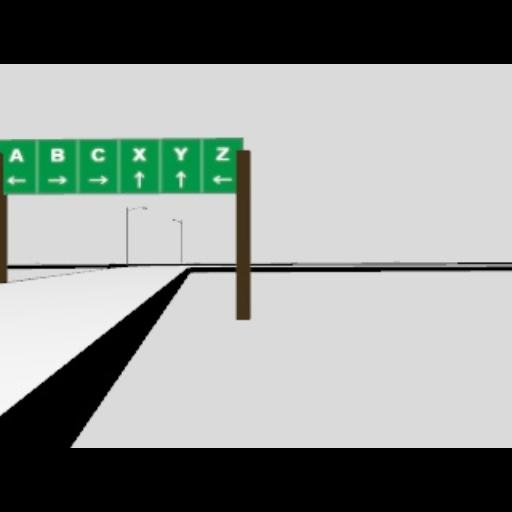A: (8, 146, 26, 164)
B: (50, 146, 66, 164)
C: (90, 146, 106, 162)
Left: (213, 172, 235, 186), (8, 174, 28, 186)
Right: (88, 173, 110, 185), (45, 174, 69, 184)
Straight: (175, 170, 189, 190), (132, 170, 146, 188)
X: (132, 146, 148, 162)
Y: (174, 146, 190, 162)
Z: (214, 145, 232, 163)
